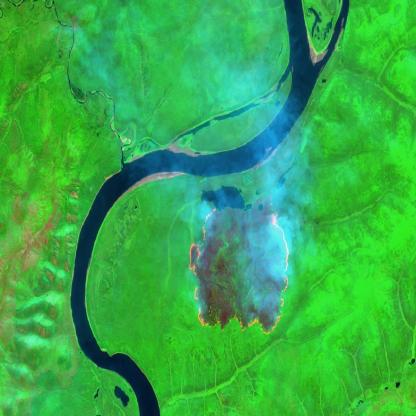fire: (184, 198, 297, 339)
